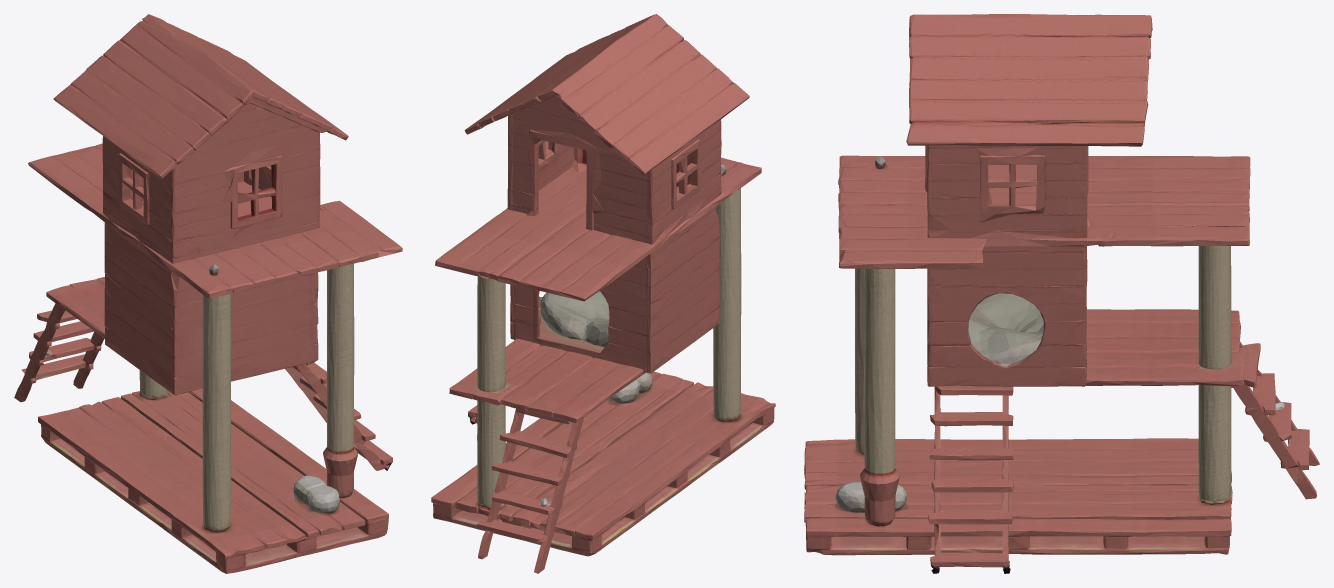
The model's file is DOM_kotik_5__base.glb.
3 views of the same model, side by side, from view 1: azimuth 30°, elevation 25°; view 2: azimuth 150°, elevation 25°; view 3: azimuth 270°, elevation 25° (orthographic). The views are drawn at different scales.
Visible parts, largest first — view 1: tripo_node_e78e3b15-10aa-4e15-b873-7541af457376; view 2: tripo_node_e78e3b15-10aa-4e15-b873-7541af457376; view 3: tripo_node_e78e3b15-10aa-4e15-b873-7541af457376.
Boxes of the visible parts, <box> form: tripo_node_e78e3b15-10aa-4e15-b873-7541af457376: <box>14,14,402,573</box>; tripo_node_e78e3b15-10aa-4e15-b873-7541af457376: <box>431,14,775,573</box>; tripo_node_e78e3b15-10aa-4e15-b873-7541af457376: <box>804,14,1319,573</box>.
Size of the model in its own units: 0.5864 by 1 by 0.9474.
1 material, 1 textured.
